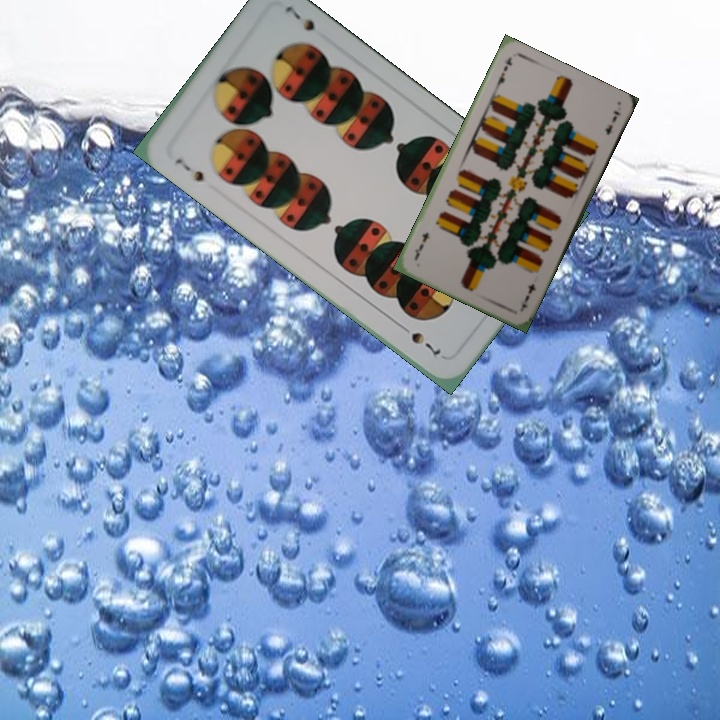E7: (491, 53, 515, 92), (516, 279, 539, 313)
S7: (171, 154, 207, 185)
